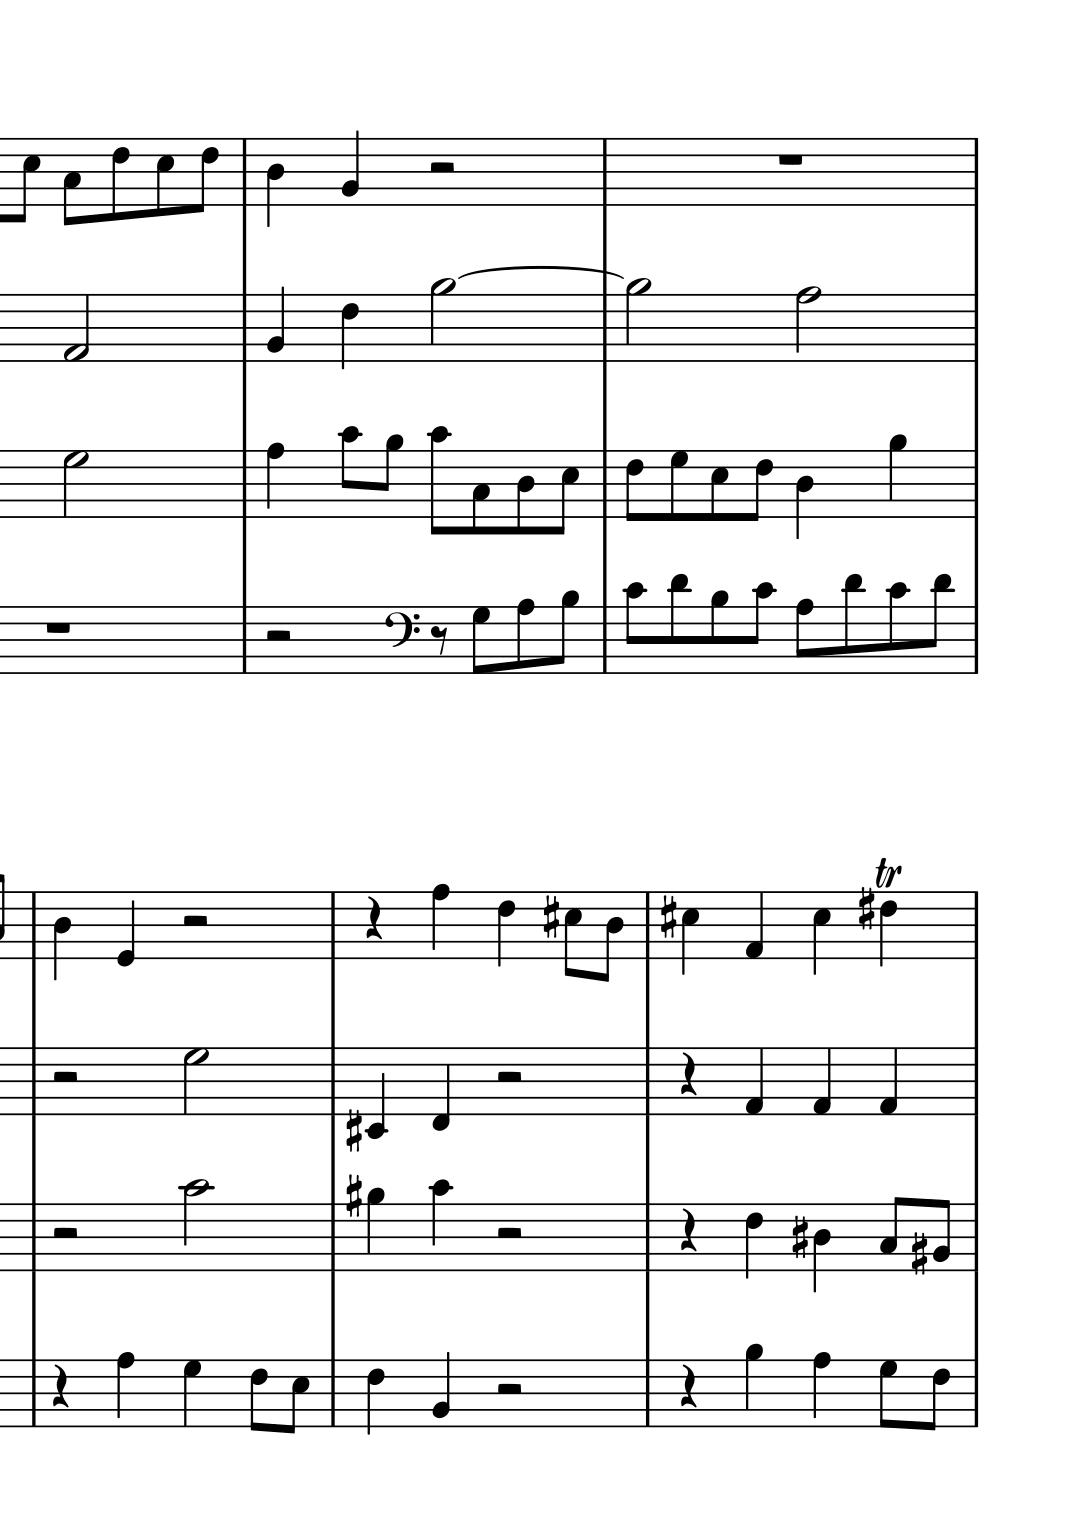2_1: (61, 292, 91, 365)
2_10: (179, 1177, 212, 1274)
2_7: (60, 448, 90, 521), (180, 1046, 209, 1118)
2_8: (794, 284, 822, 364)
2_9: (624, 276, 652, 365), (427, 278, 455, 366)
4_-1: (429, 1045, 451, 1132)
4_-2: (364, 1045, 386, 1139)
4_0: (115, 890, 136, 968)
4_1: (810, 1045, 833, 1116), (877, 1045, 900, 1116), (742, 1046, 766, 1116), (742, 889, 764, 961)
4_10: (427, 1178, 451, 1274)
4_2: (264, 284, 288, 362), (430, 1349, 452, 1430), (340, 127, 361, 208)
4_4: (264, 136, 286, 229), (50, 889, 72, 981), (811, 1201, 833, 1293), (794, 449, 815, 540)
4_5: (679, 890, 700, 979), (811, 889, 831, 979)
4_6: (875, 891, 898, 970), (364, 1357, 386, 1437), (338, 292, 360, 371), (742, 1201, 763, 1282), (496, 889, 515, 969)
4_7: (180, 1358, 203, 1427)
4_8: (264, 440, 286, 519), (113, 1350, 136, 1429), (810, 1351, 832, 1429), (429, 881, 450, 961)
4_9: (364, 1185, 386, 1273), (743, 1342, 764, 1429), (887, 433, 907, 519)
8_10: (427, 426, 454, 537), (745, 580, 775, 676), (621, 580, 648, 676), (337, 424, 362, 519), (885, 580, 909, 676)
8_11: (923, 571, 954, 677), (666, 572, 690, 677), (842, 571, 865, 676)
8_2: (932, 1197, 953, 1273)
8_3: (878, 1195, 904, 1273), (469, 448, 491, 537), (61, 136, 82, 229)
8_4: (597, 890, 623, 984), (513, 448, 535, 537)
8_5: (551, 448, 579, 535), (13, 136, 40, 224), (283, 1357, 310, 1436), (563, 889, 583, 979), (153, 134, 174, 217), (708, 449, 729, 523)
8_6: (191, 136, 220, 214), (923, 1357, 951, 1433), (746, 448, 774, 523), (108, 137, 130, 223), (623, 448, 646, 523), (248, 1357, 268, 1434)
8_7: (469, 604, 491, 676), (875, 1358, 898, 1430), (669, 449, 690, 523)
8_8: (514, 597, 535, 676), (794, 597, 815, 676)
8_9: (551, 590, 580, 676), (376, 434, 404, 520), (708, 590, 729, 676)
Fclef: (383, 604, 420, 676)
Rests1: (775, 150, 806, 170), (41, 618, 74, 636)
Rests2: (46, 1067, 82, 1088), (261, 625, 295, 647), (424, 158, 458, 178), (178, 912, 212, 932), (492, 1069, 526, 1088), (47, 1224, 82, 1243), (493, 1225, 526, 1244), (492, 1380, 525, 1398)
Rests4: (676, 1362, 700, 1410), (360, 896, 385, 942), (48, 1361, 70, 1411), (676, 1050, 699, 1097), (676, 1207, 698, 1253)
Rests8: (429, 624, 450, 657)
Sharp: (341, 1171, 364, 1221), (539, 893, 561, 941), (856, 885, 875, 933), (342, 1107, 362, 1154), (790, 1214, 809, 1261), (909, 1230, 928, 1277), (659, 893, 677, 941)
Single_barline: (593, 138, 615, 206), (596, 293, 618, 361), (234, 450, 255, 517), (234, 295, 254, 362), (323, 1358, 342, 1426), (23, 1048, 43, 1114), (323, 1048, 342, 1114), (23, 1203, 43, 1270), (323, 892, 342, 957), (323, 1204, 342, 1270), (23, 1358, 42, 1427), (965, 1358, 984, 1427), (967, 138, 985, 206), (965, 295, 984, 362), (965, 450, 984, 518), (965, 1048, 984, 1115), (234, 607, 252, 673), (965, 891, 984, 957), (637, 892, 656, 959), (638, 1360, 657, 1426), (637, 1204, 656, 1270), (596, 450, 614, 519), (235, 139, 252, 207), (25, 892, 42, 959), (638, 1048, 656, 1114), (596, 606, 612, 673), (967, 607, 983, 675), (967, 1204, 983, 1272)
Slur: (458, 264, 623, 281)
Trill: (871, 856, 902, 890)
